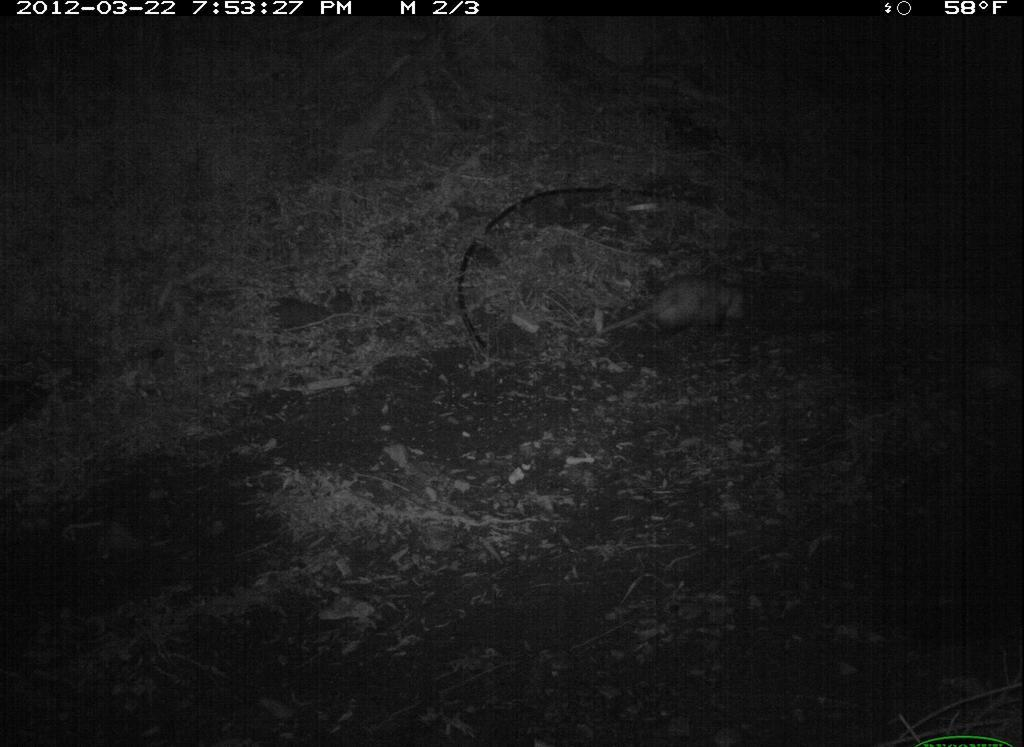opossum: (555, 255, 795, 358)
